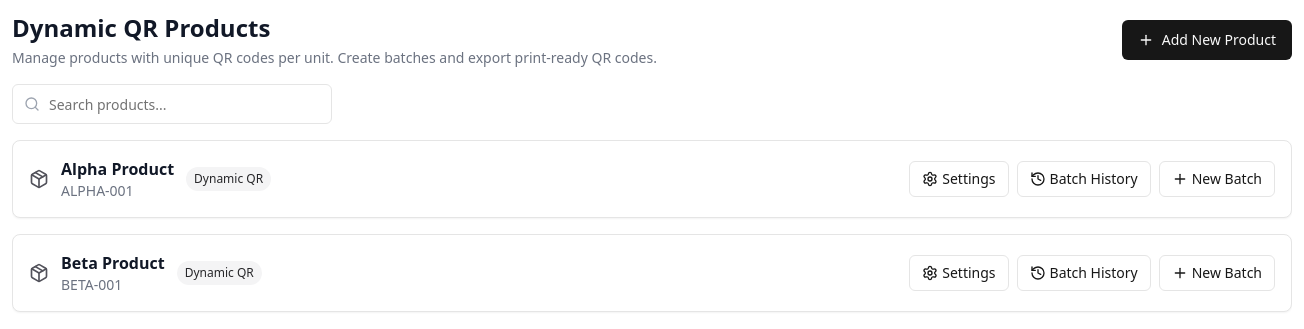
DynamicQRPage › Search › should filter products by name
Type in search
Step 1. Type "Alpha" into the field with placeholder "Search products..." → [172, 104], box top-left (12, 84), bottom-right (332, 124)
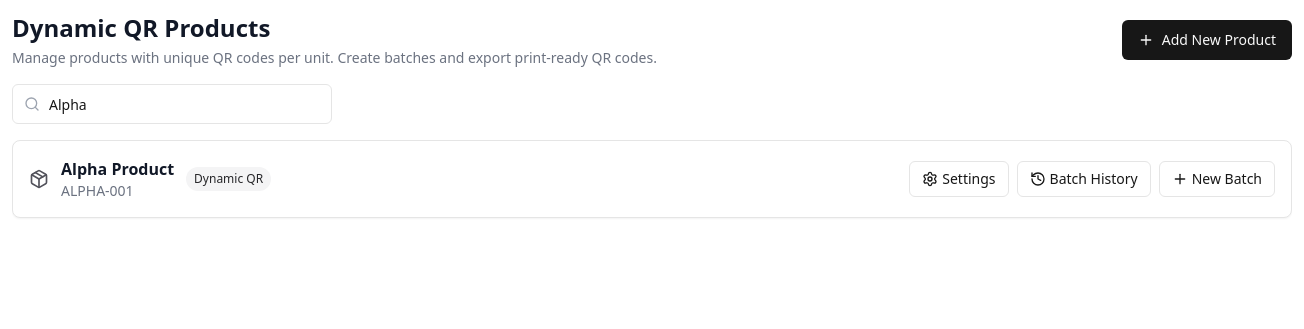
Expected: the text "Alpha Product" is shown, top-left (61, 157), bottom-right (174, 181)
Now the text "Beta Product" is gone
